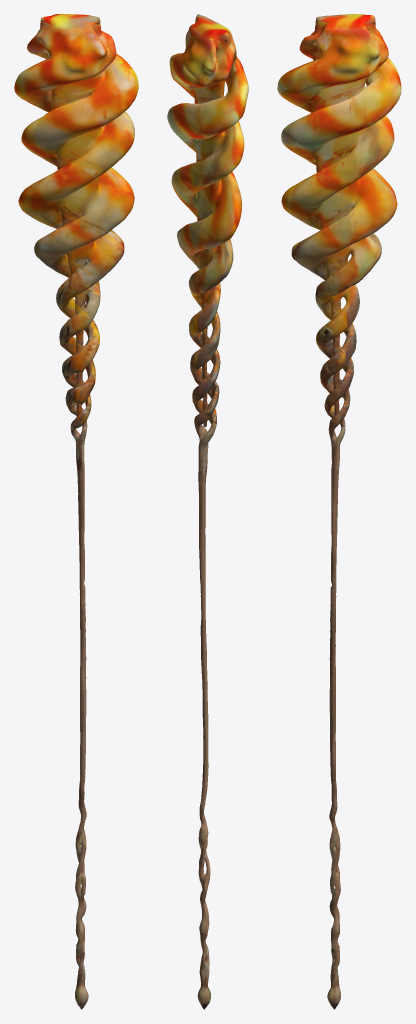
Rendered from Colorful_Spiral_Wand_1125034221.fbx.
3 views of the same model, side by side, from view 1: azimuth 90°, elevation 25°; view 2: azimuth 210°, elevation 25°; view 3: azimuth 270°, elevation 25° (orthographic).
Parts seen in each view (by area): view 1: Mesh1_Mesh1.029; view 2: Mesh1_Mesh1.029; view 3: Mesh1_Mesh1.029.
Part boxes in pixels (bbox=[...]): Mesh1_Mesh1.029: bbox=[14, 14, 138, 1009]; Mesh1_Mesh1.029: bbox=[167, 14, 248, 1009]; Mesh1_Mesh1.029: bbox=[277, 14, 401, 1009].
Size of the model in its own units: 10.58 by 200 by 22.68.
1 material, 1 textured.
